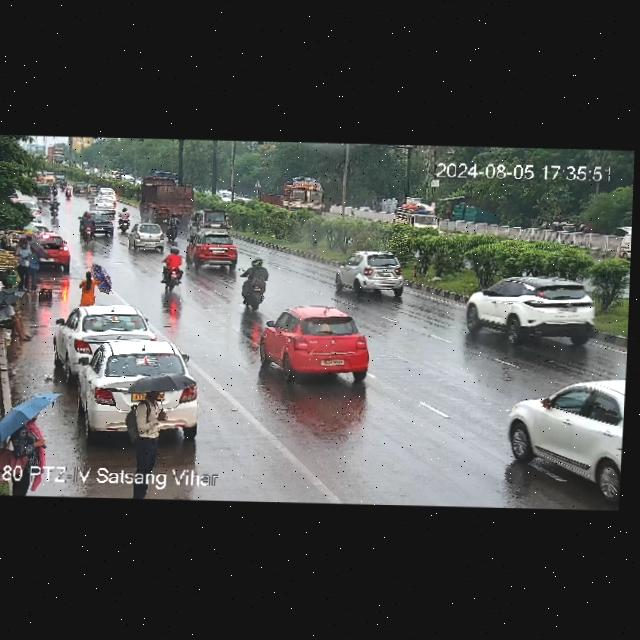car: (490, 365, 626, 508), (72, 338, 220, 450), (457, 265, 617, 353), (250, 300, 393, 393), (48, 293, 162, 379), (321, 244, 421, 300), (181, 227, 245, 275), (20, 227, 74, 271), (125, 212, 169, 258), (73, 207, 117, 242), (189, 205, 236, 237), (12, 195, 44, 225), (613, 219, 632, 257), (88, 195, 118, 218), (213, 182, 240, 200), (83, 179, 102, 201), (33, 182, 52, 203), (95, 182, 117, 200), (74, 178, 89, 196)
motorcycle: (229, 242, 274, 318), (158, 243, 190, 299), (156, 207, 188, 247), (114, 202, 136, 235), (44, 196, 64, 224), (60, 180, 84, 201), (48, 182, 60, 197)
person: (115, 373, 202, 469), (0, 387, 67, 466), (0, 283, 36, 347), (76, 256, 115, 305), (0, 285, 36, 338), (13, 235, 38, 287), (22, 235, 45, 283)
truck: (254, 171, 337, 214), (136, 168, 197, 226), (385, 194, 449, 232), (46, 144, 70, 164)
